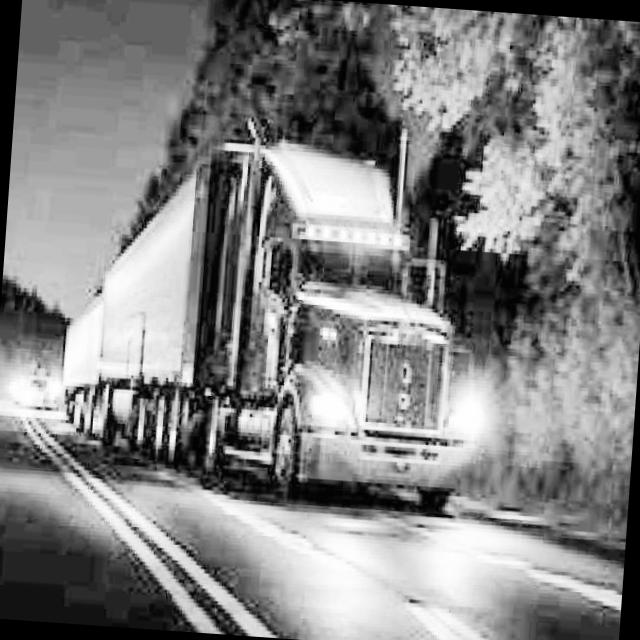Truck: (55, 106, 502, 513)
